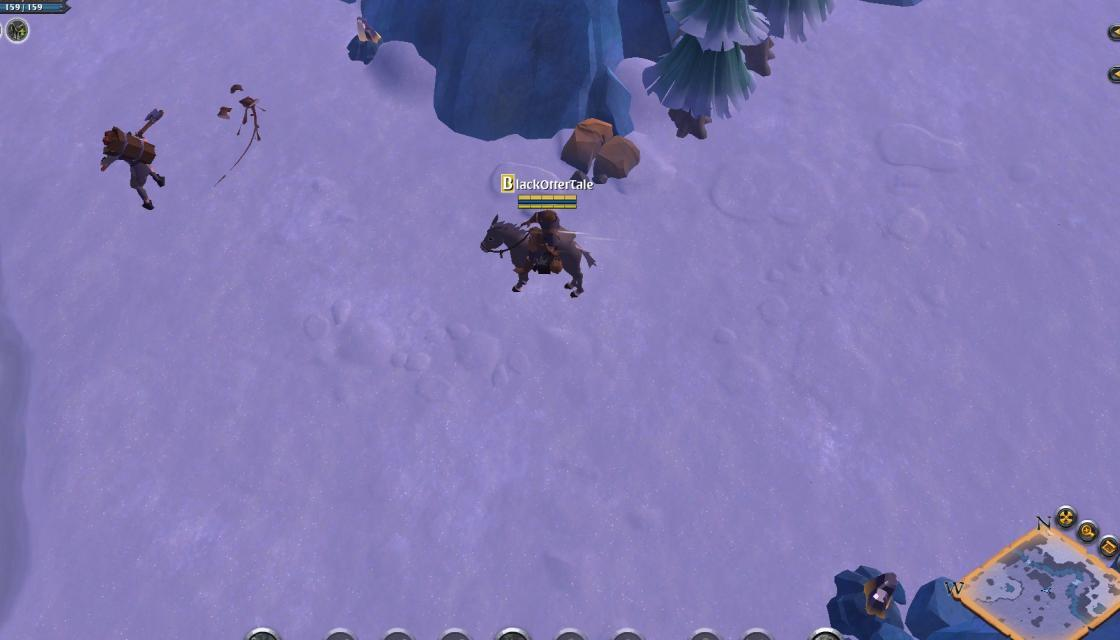copperore: (825, 560, 908, 640), (342, 14, 392, 62)
limestone: (558, 114, 644, 186)
